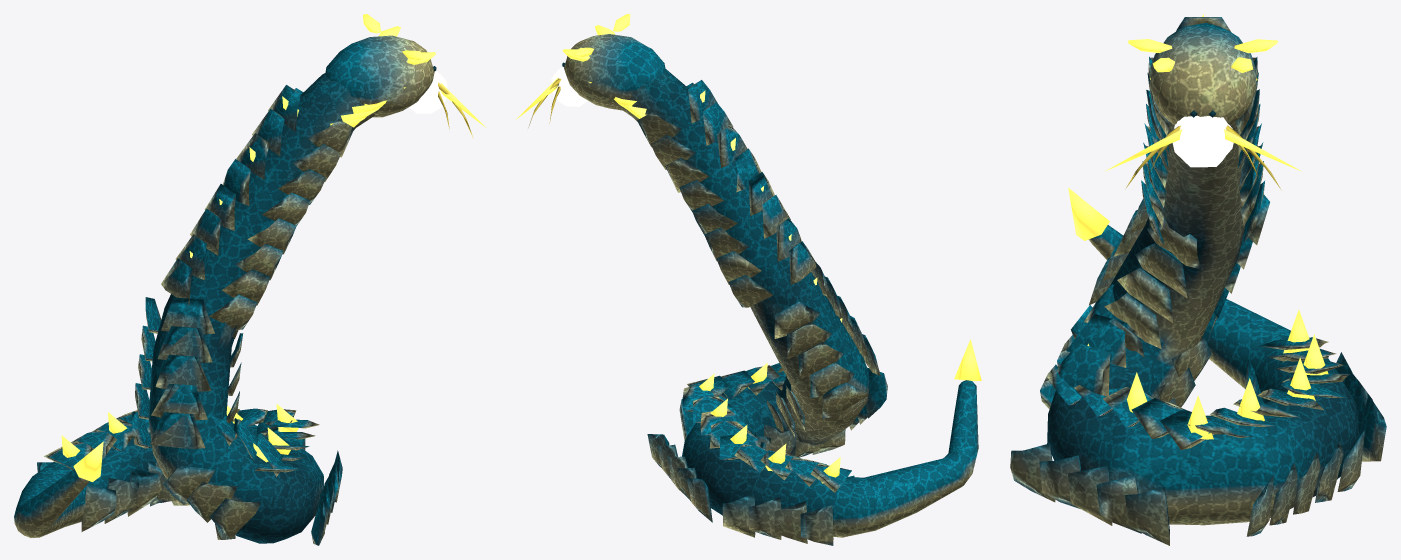
The model's file is imugi.glb.
3 renders of one model, left to right at view 1: azimuth 30°, elevation 25°; view 2: azimuth 150°, elevation 25°; view 3: azimuth 270°, elevation 25°, orthographic. The views are drawn at different scales.
Visible parts, largest first — view 1: imugi.001; view 2: imugi.001; view 3: imugi.001.
Part boxes in pixels (<box>): imugi.001: <box>14,14,485,545</box>; imugi.001: <box>516,14,981,545</box>; imugi.001: <box>1010,14,1386,545</box>.
Size of the model in its own units: 2.05 by 1.98 by 1.2.
Materials: 5 (1 with a texture image).
